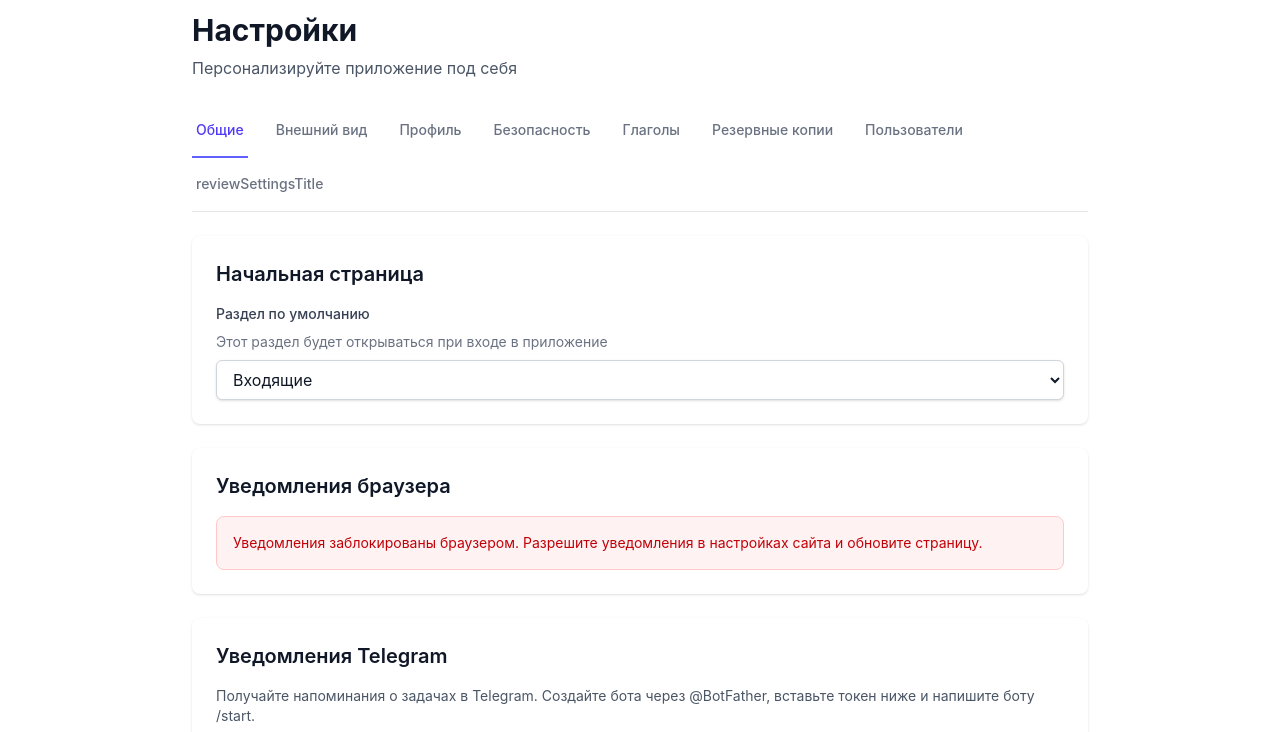
Test case: Settings › users tab › shows empty state when no users
This screenshot has width=1280, height=732.
Click the button "Пользователи" at (914, 131), box left=861, top=104, right=967, bottom=158
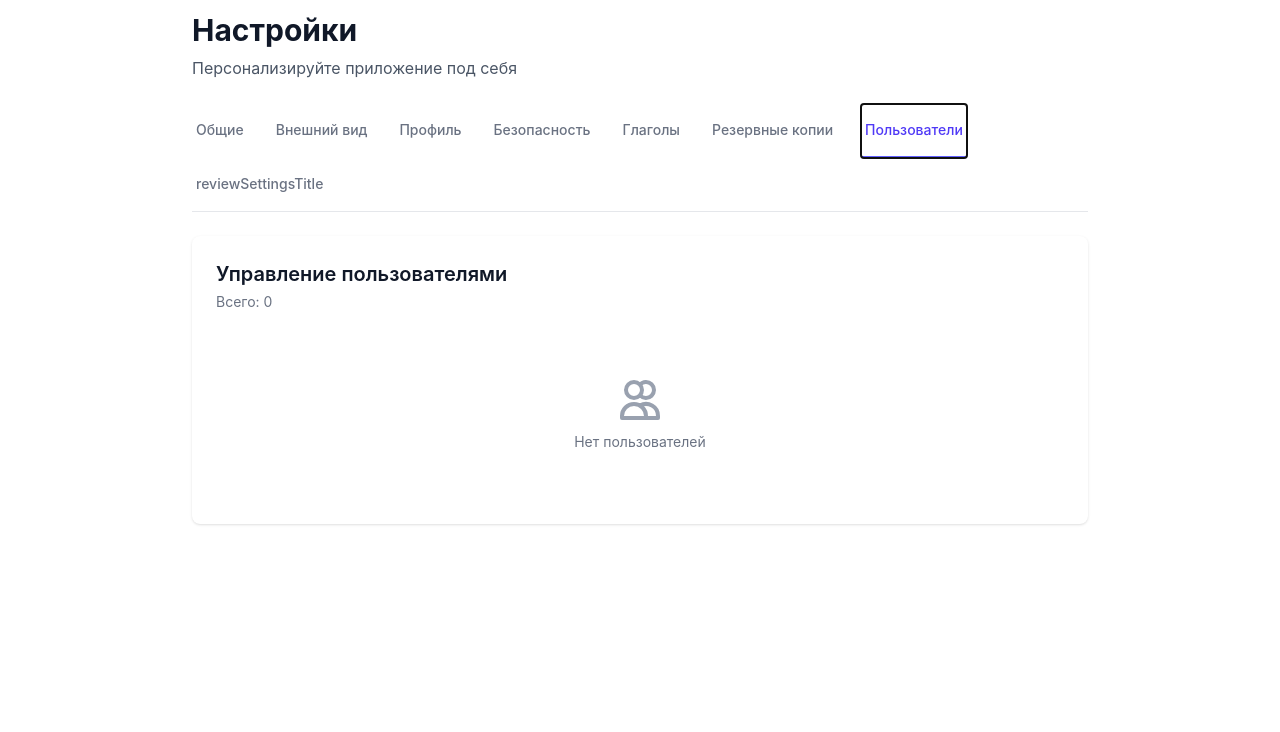
Result: the text "Нет пользователей" is shown at left=574, top=433, right=706, bottom=450
